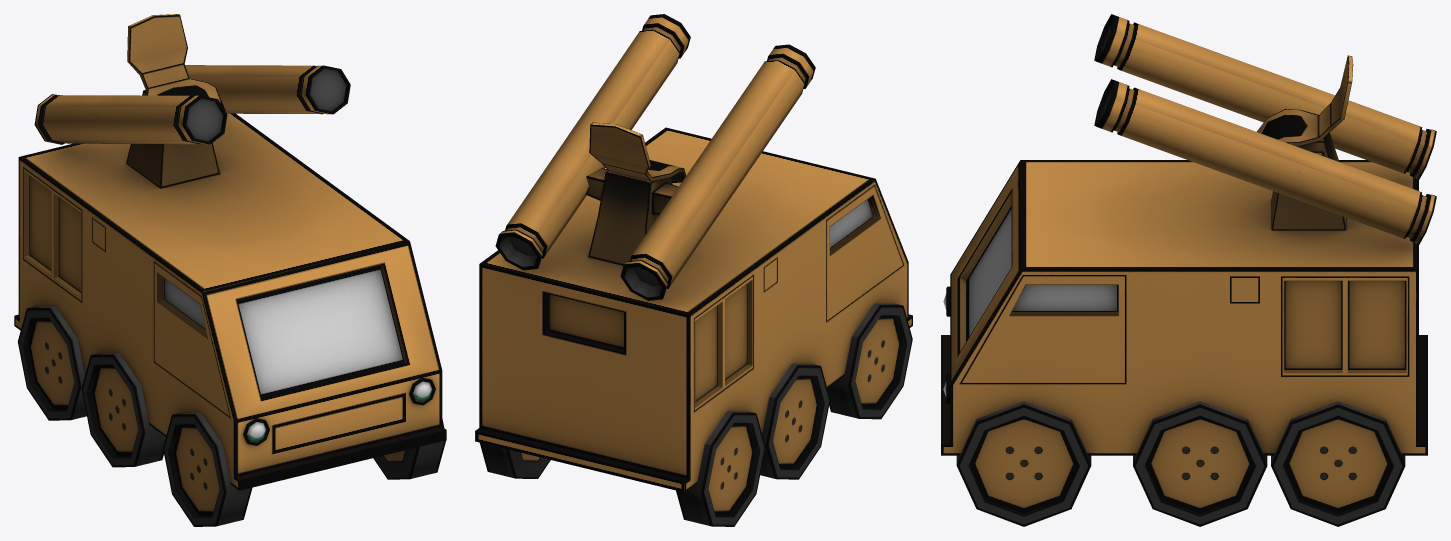
Rendered from Missile Launcher.fbx.
3 views of the same model, side by side, from view 1: azimuth 30°, elevation 25°; view 2: azimuth 150°, elevation 25°; view 3: azimuth 270°, elevation 25° (orthographic). The views are drawn at different scales.
Parts seen in each view (by area): view 1: Missile_Launcher; view 2: Missile_Launcher; view 3: Missile_Launcher.
Part boxes in pixels (left/top/right/bottom): Missile_Launcher: left=14, top=14, right=446, bottom=526; Missile_Launcher: left=475, top=14, right=912, bottom=526; Missile_Launcher: left=941, top=14, right=1436, bottom=526.
Size of the model in its own units: 3.04 by 5.09 by 5.44.
1 material, 1 textured.
